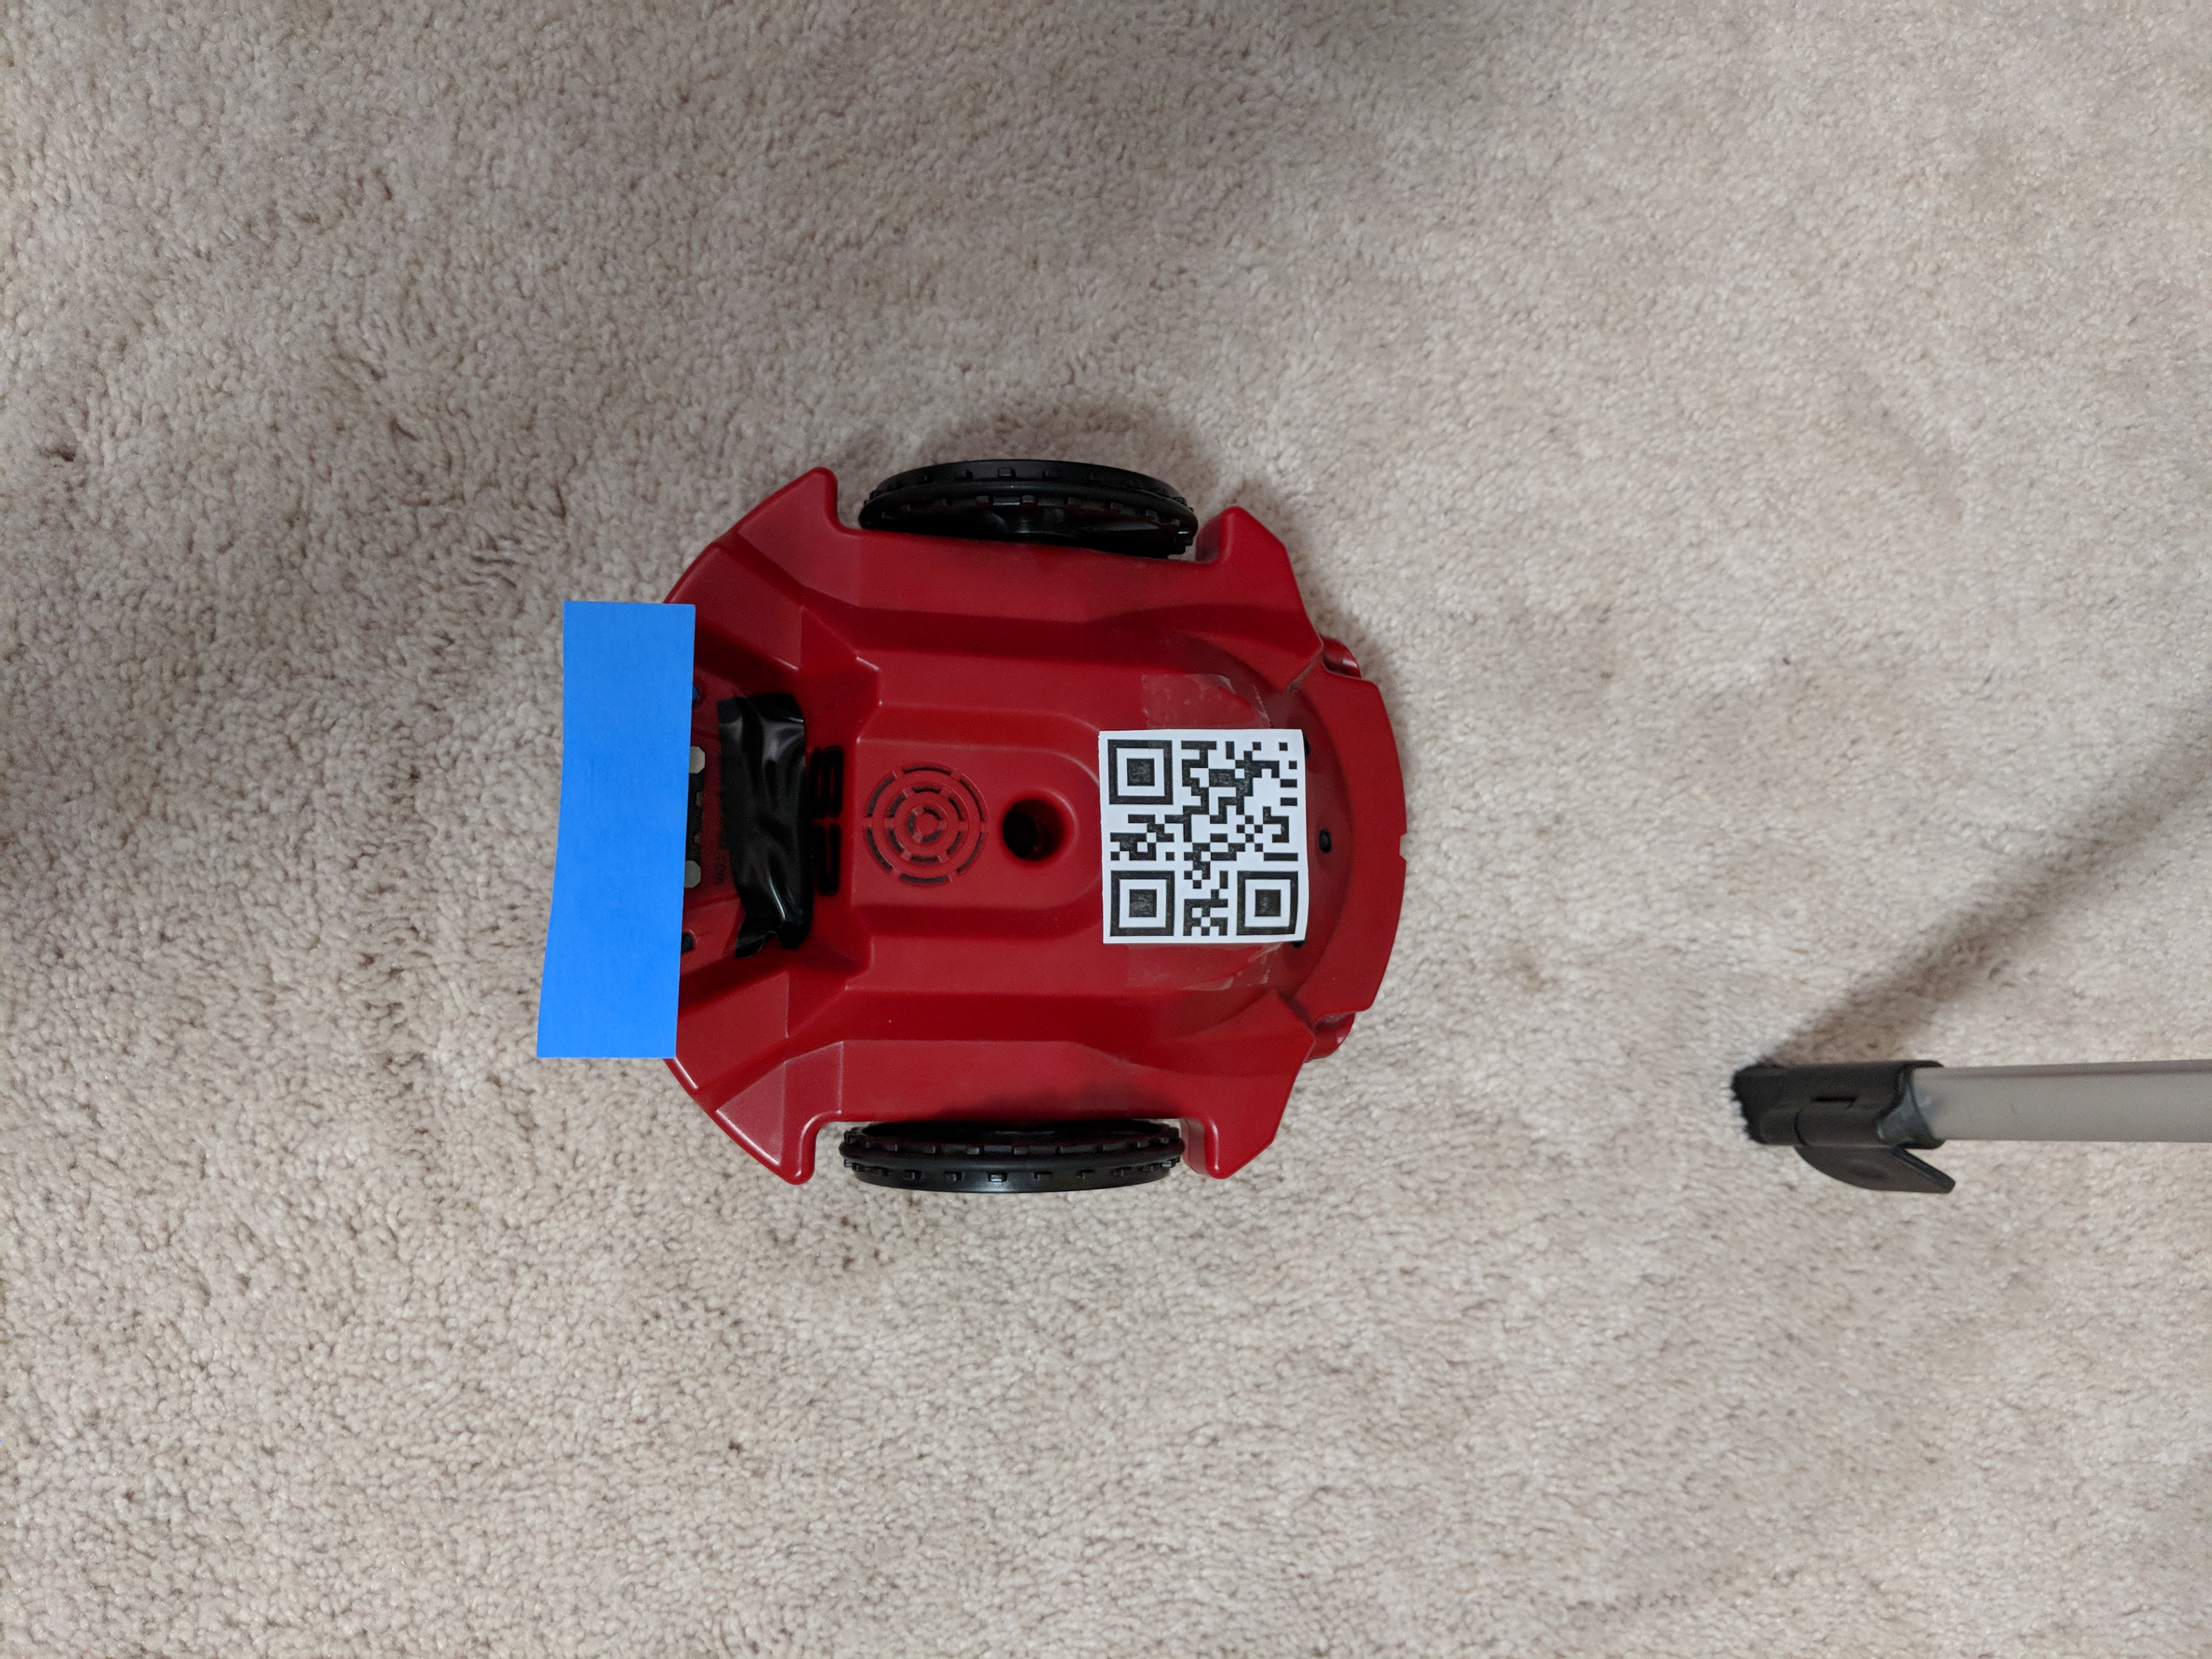chassis: (543, 444, 1426, 1225)
qr: (1085, 730, 1327, 950)
